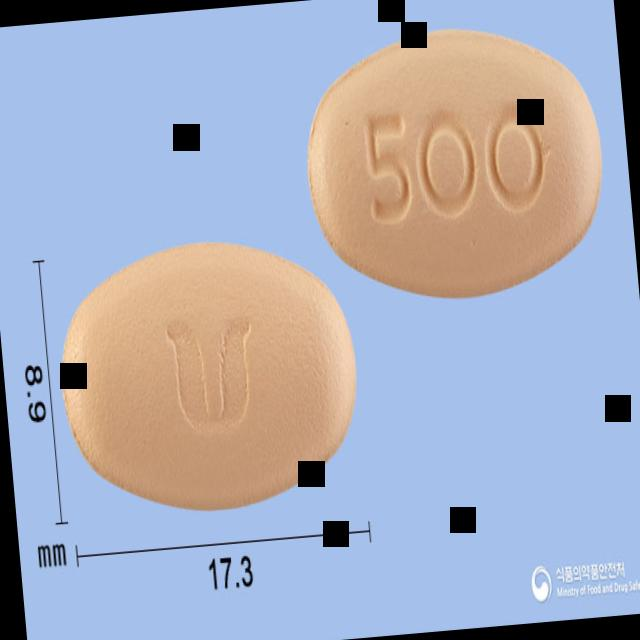Ciroxin - 250mg: (296, 17, 614, 312), (50, 226, 366, 521)
